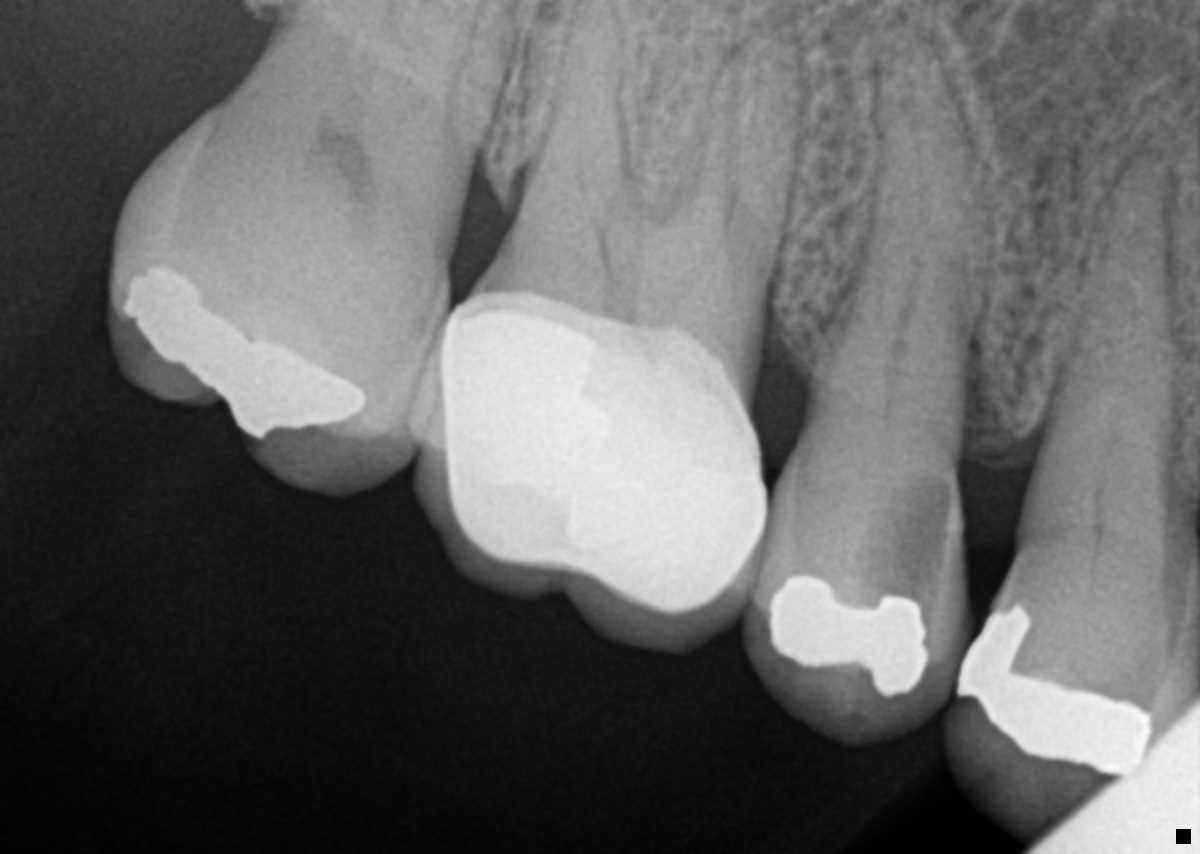Distal Root: (519, 0, 643, 217)
Main Canal: (879, 82, 930, 418), (1091, 294, 1129, 500)
Main Root: (815, 19, 997, 425), (246, 0, 519, 216), (1031, 159, 1176, 516)
Mesial Canal: (702, 98, 746, 254)
Mesial Root: (672, 18, 802, 293)
decay: (843, 465, 946, 619)
